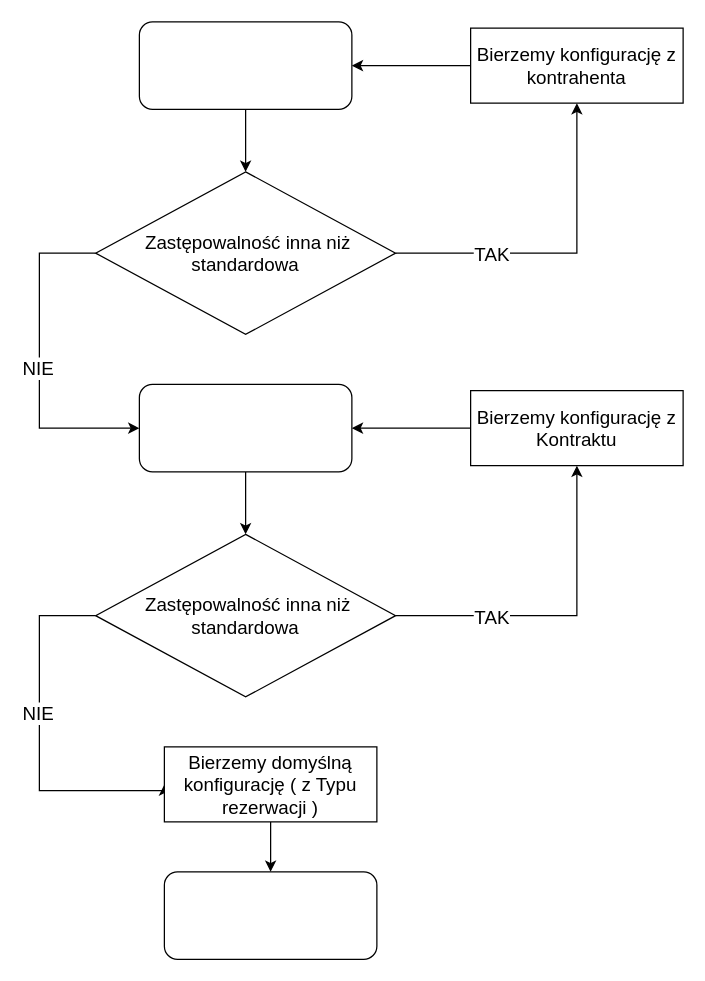
This 705x981 diagram has some shape labels left out. The shapes that lost their labels are listed below. From the top down, each one's centre as x and y in pixels, then its label:
At pixel 245 65: "Kontrahent".
At pixel 245 427: "Kontrakt".
At pixel 270 915: "Typ rezerwacji".
